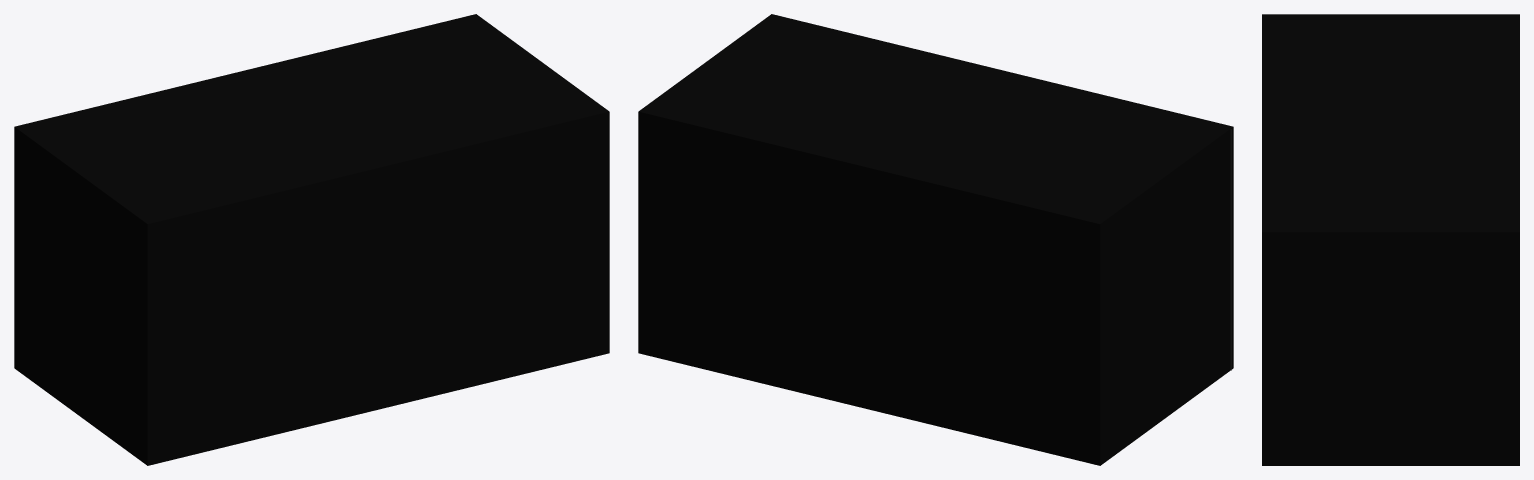
Rendered from DoubleDoor_H.glb.
3 views of the same model, side by side, from view 1: azimuth 30°, elevation 25°; view 2: azimuth 150°, elevation 25°; view 3: azimuth 270°, elevation 25° (orthographic). The views are drawn at different scales.
Visible parts, largest first — view 1: GameObject (1), GameObject; view 2: GameObject (1), GameObject; view 3: GameObject, GameObject (1).
Part boxes in pixels (x1,y1,x2,y2): GameObject (1): (14, 70, 378, 465); GameObject: (246, 14, 609, 409); GameObject (1): (869, 70, 1233, 465); GameObject: (638, 14, 1001, 409); GameObject: (1262, 123, 1519, 465); GameObject (1): (1262, 14, 1519, 123).
Bounding box in the file's own units: 2 × 1 × 1.
Materials: 2 (2 with a texture image).
